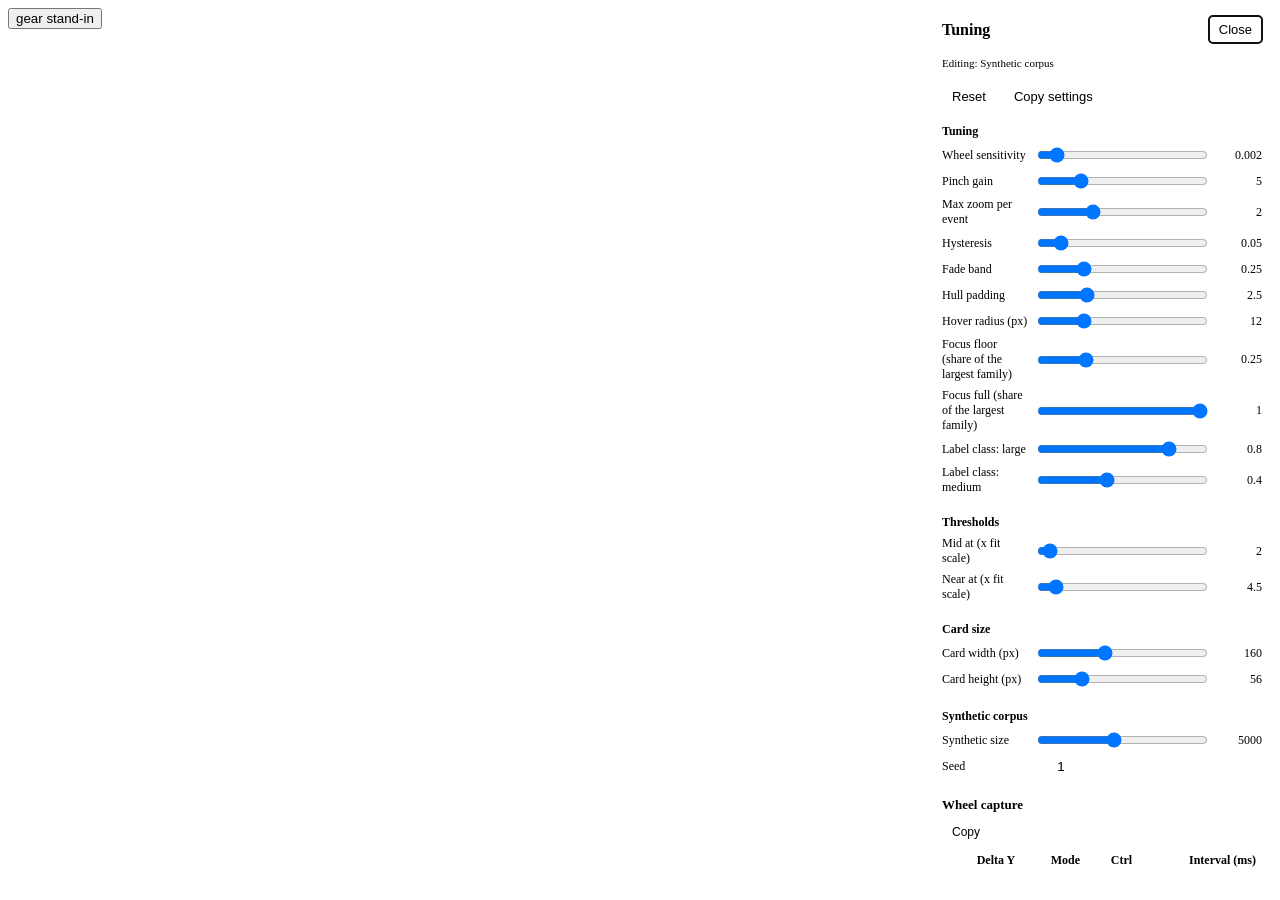
Test: TuningPanel (showcase Task 7) › shows a message instead of throwing when the clipboard write rejects
Click the button "Copy settings" at (1053, 96), box [1004,83,1103,110]
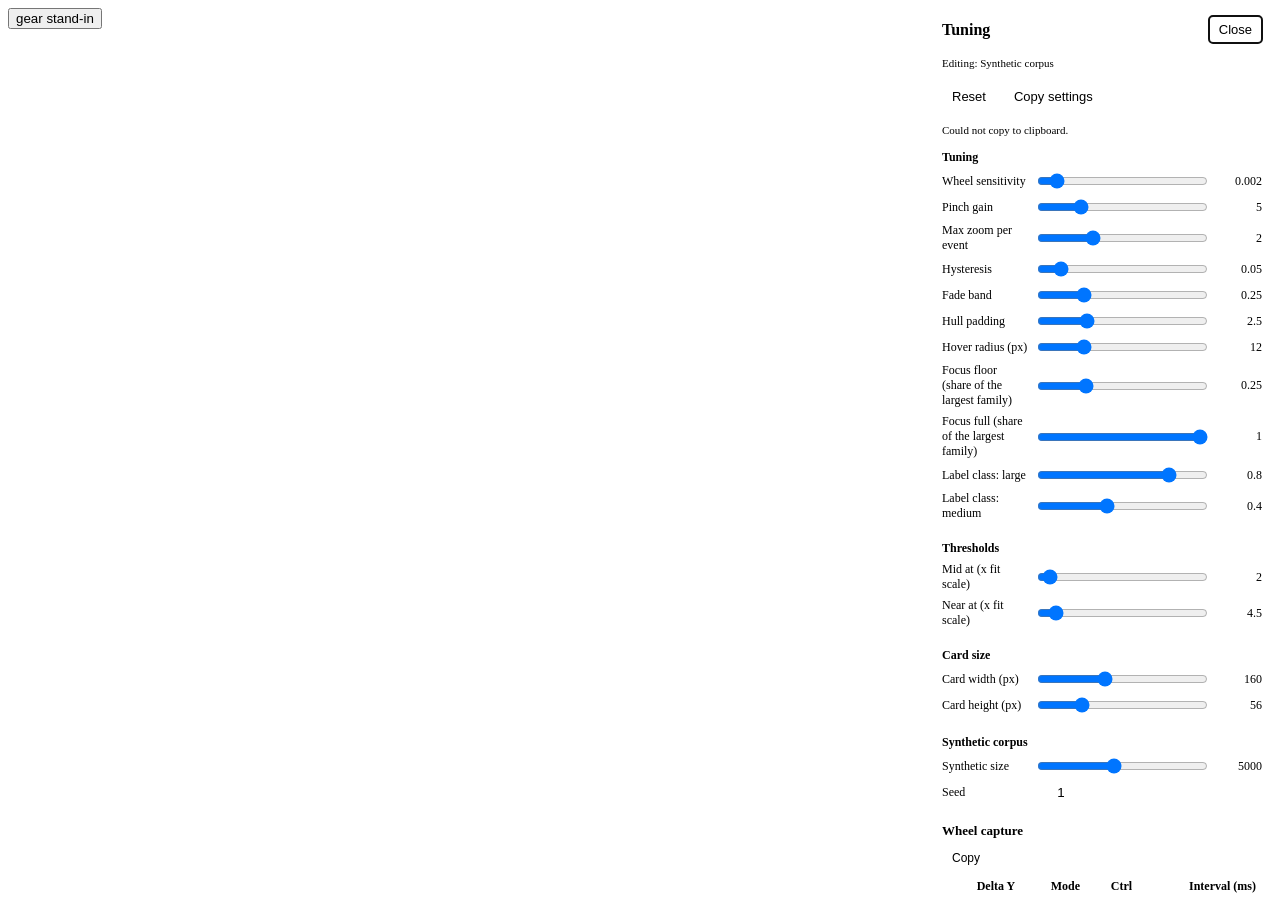
Expected: the text "Could not copy to clipboard." is shown, [942,124,1068,136]
